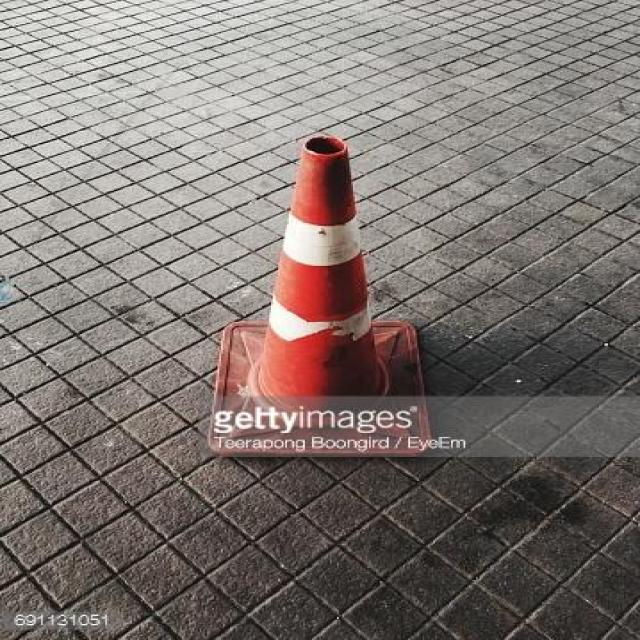Cone: (205, 134, 435, 457)
